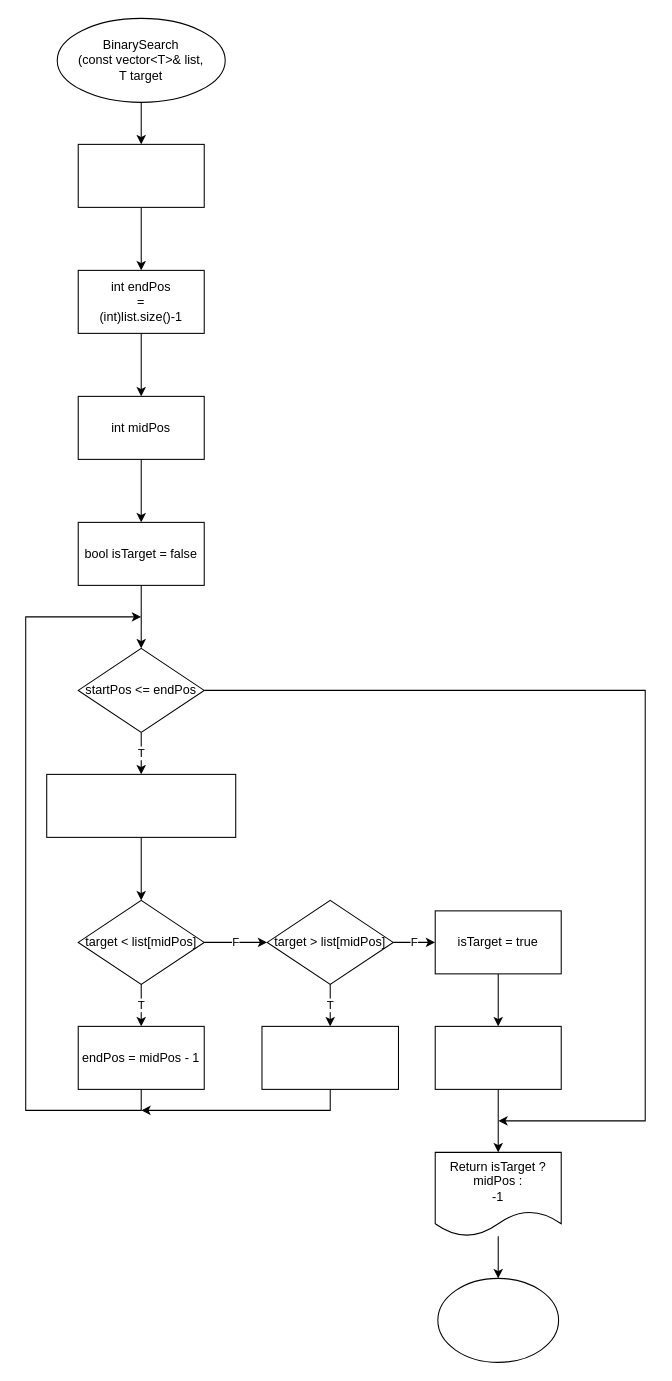
This 672x1381 diagram has some shape labels left out. The shapes that lost their labels are listed below. From the top down, each one's centre as x and y in pixels, then its label:
the point at 140,175: int startPos = 0
the point at 141,805: midPos = (endPos - startPos) / 2 + startPos
the point at 329,1057: startPos = midPos + 1
the point at 497,1057: break
the point at 498,1319: End
